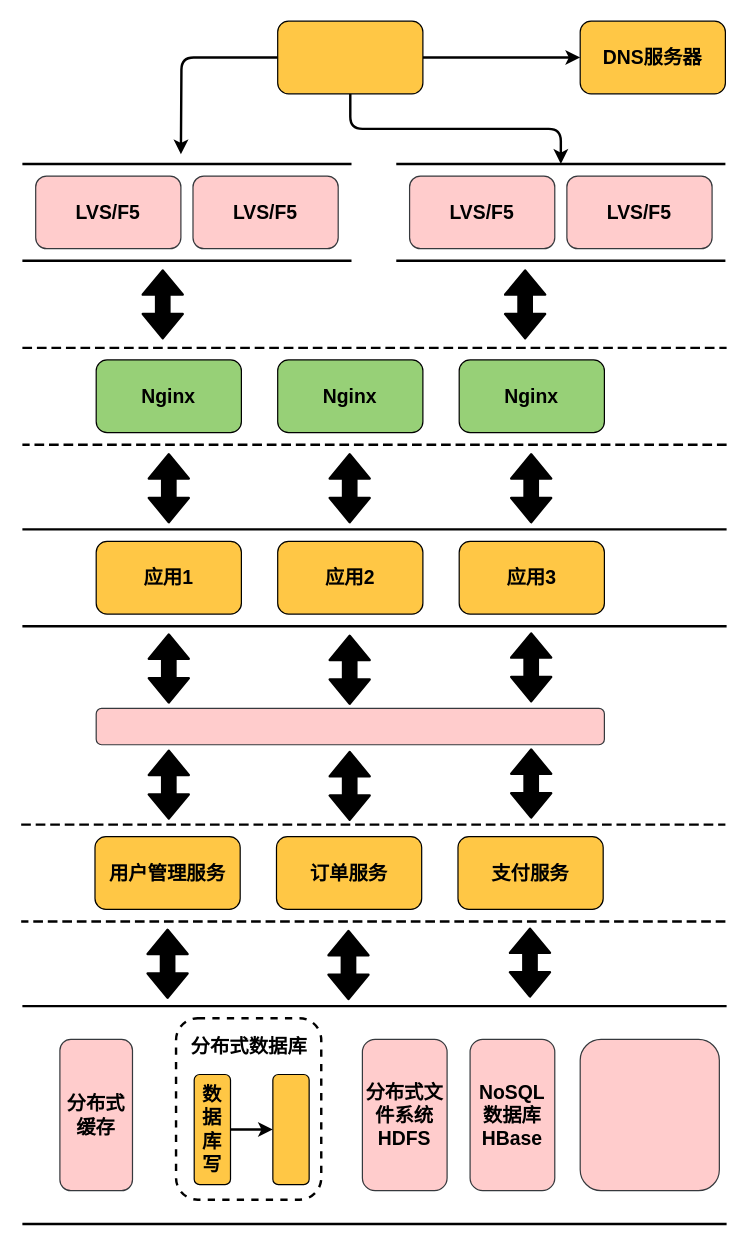
The diagram is 747 pixels wide and 1246 high, and some of its shapes have lost their labels. Each missing label, with the centre of its shape:
ESB企业服务总线: point 349,726
搜索引擎ElasticSearch: point 649,1114
数据库读: point 290,1129
浏览器: point 349,57
